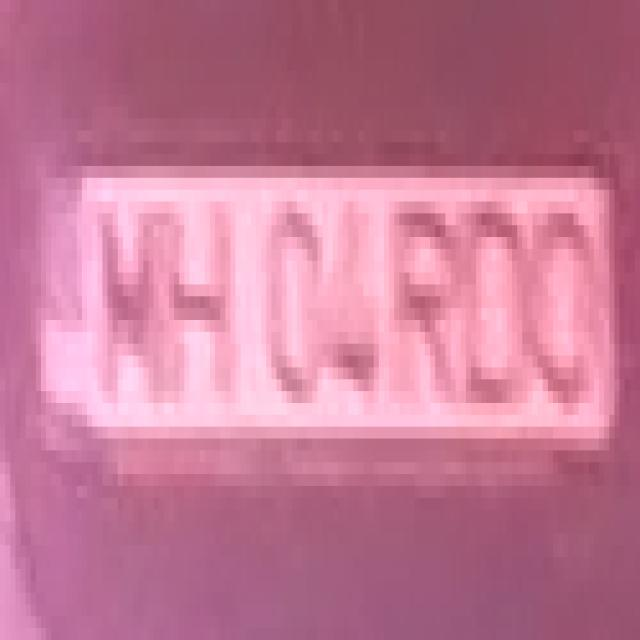Autre: (7, 155, 622, 480)
